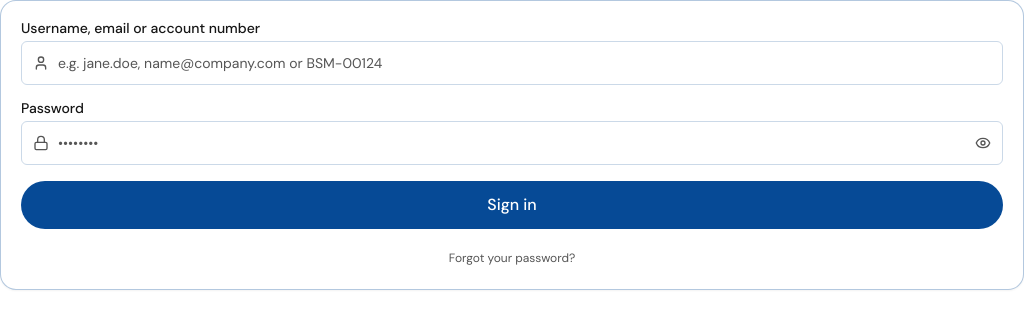
Test: OTP verification screen › an expired code says so and blocks verification
In the field labelled "Username, email or account number": [512, 63] box [21,41,1003,85], type "jane.doe"
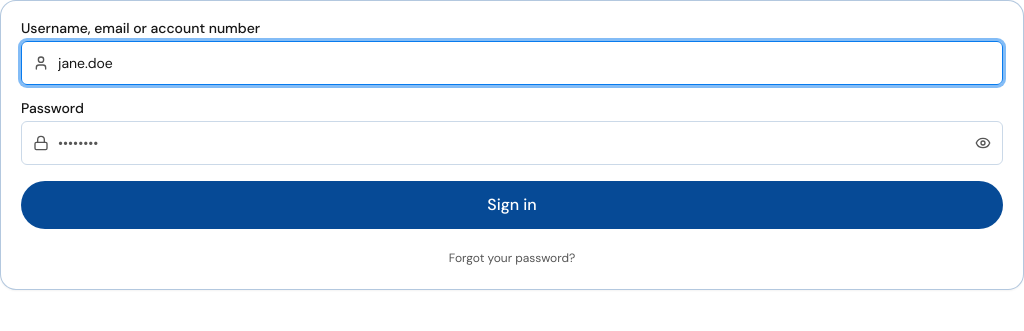
In the password field labelled "Password": [512, 143] box [21,121,1003,165], type "secret-password"
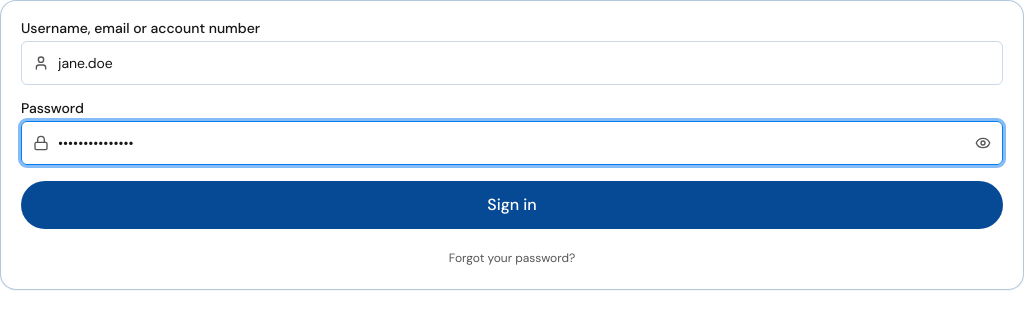
Click the button "Sign in": [512, 205] box [21,181,1003,229]
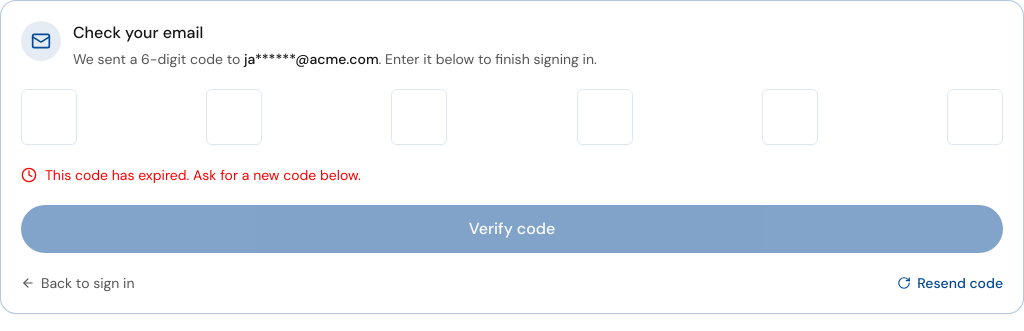
Check: the text "This code has expired. Ask for a new code below." is shown, box [45,165,361,185]
Check: the field named "Digit 1 of 6" is disabled, box [21,89,77,145]
Check: the button "Resend code" is enabled, box [897,273,1003,293]
